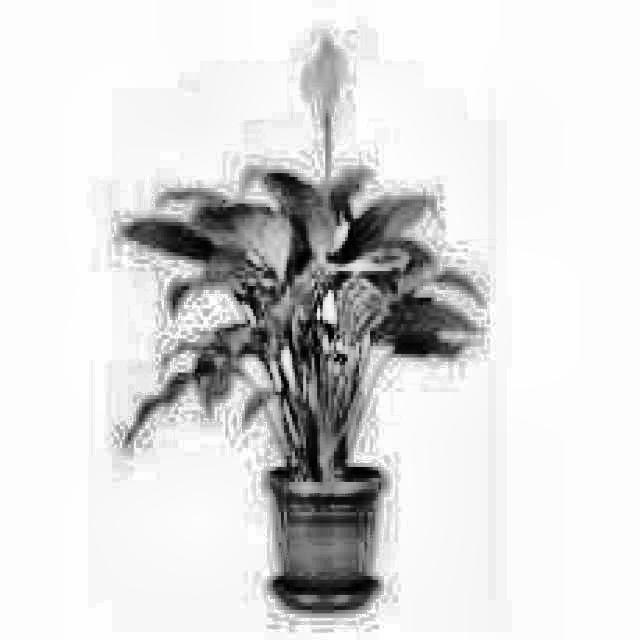plants: (113, 130, 500, 606)
